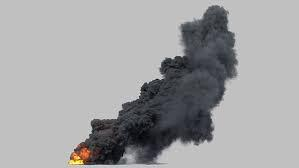fire: (67, 148, 90, 166)
